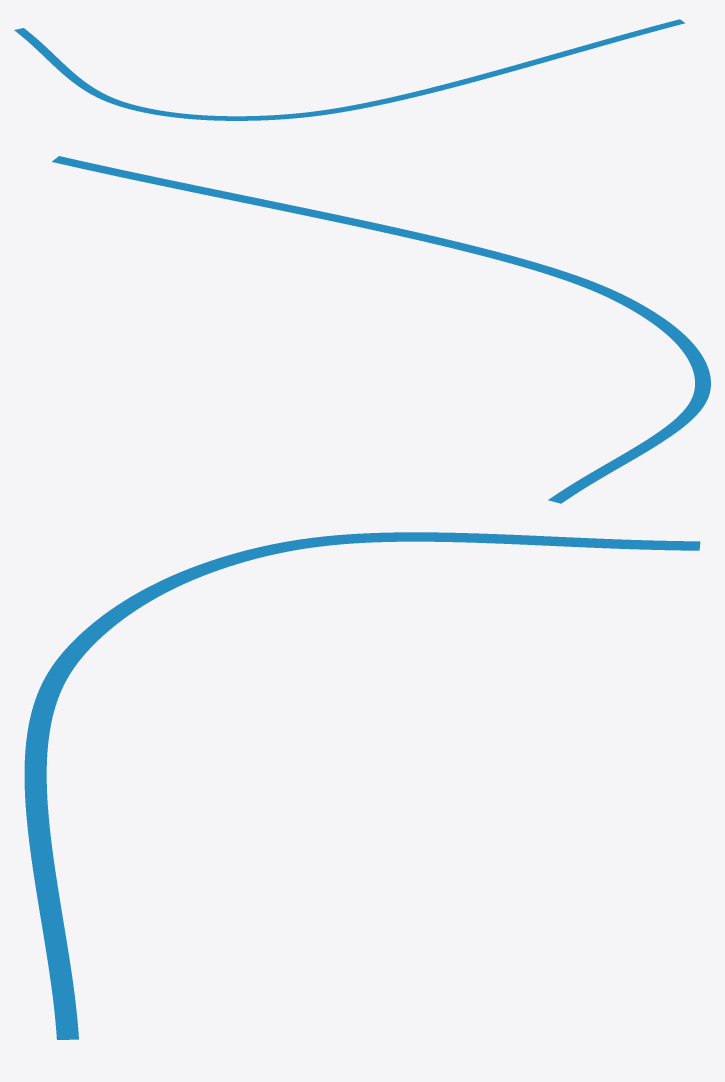
The model's file is guide.glb.
3 renders of one model, top to bottom at view 1: azimuth 30°, elevation 25°; view 2: azimuth 150°, elevation 25°; view 3: azimuth 270°, elevation 25°, orthographic. The views are drawn at different scales.
Visible parts, largest first — view 1: static; view 2: static; view 3: static.
Boxes of the visible parts, left/top/right/bottom form: static: left=14, top=19, right=685, bottom=120; static: left=52, top=156, right=710, bottom=503; static: left=24, top=532, right=700, bottom=1039.
Size of the model in its own units: 18.27 by 0 by 9.75.
